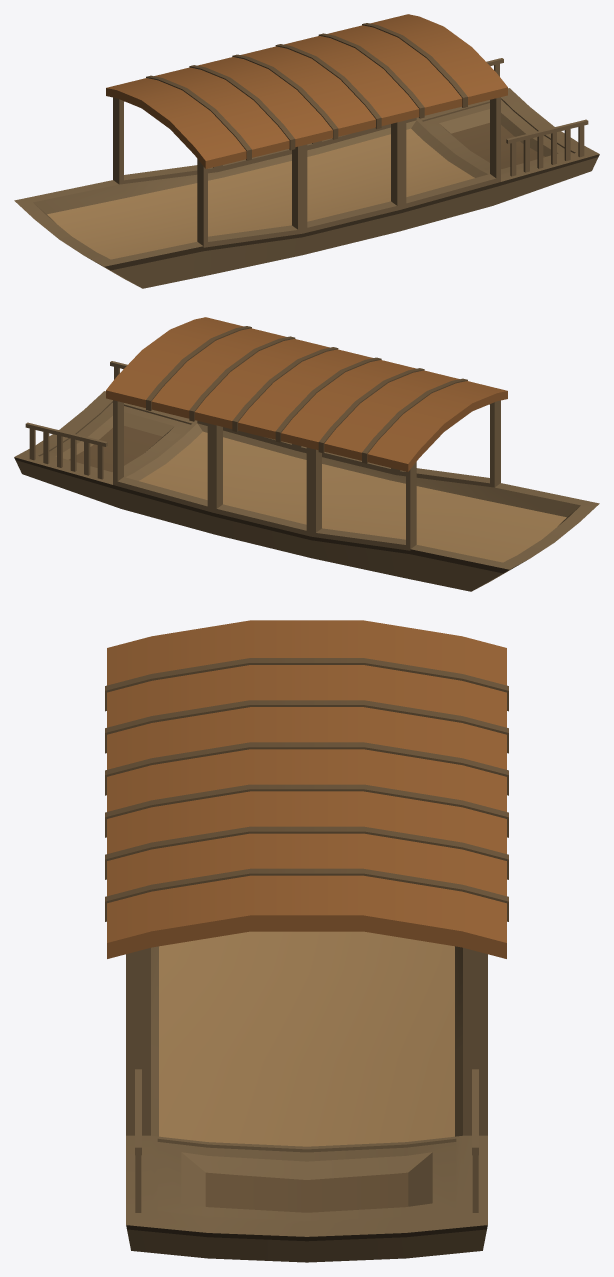
The model's file is Boat_1.fbx.
The picture shows the model from 3 angles, top to bottom: view 1: azimuth 30°, elevation 25°; view 2: azimuth 150°, elevation 25°; view 3: azimuth 270°, elevation 25°; orthographic projection. The views are drawn at different scales.
Parts seen in each view (by area): view 1: Boat_1; view 2: Boat_1; view 3: Boat_1.
Boxes of the visible parts, x1,y1,x2,y2 form: Boat_1: (14, 14, 599, 288); Boat_1: (14, 317, 599, 591); Boat_1: (105, 620, 508, 1262).
Size of the model in its own units: 1110 by 310 by 392.
